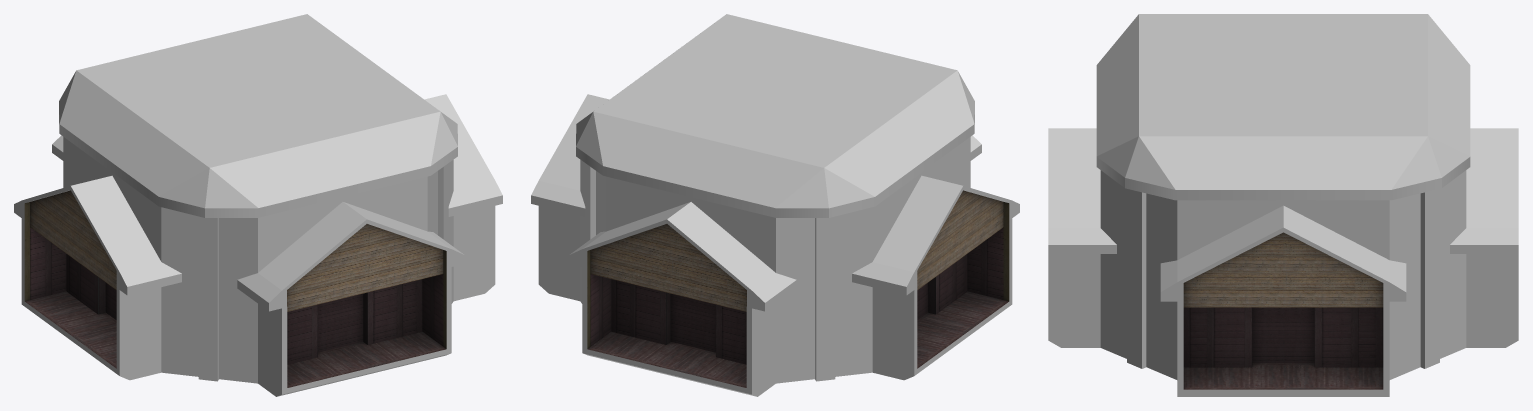
The model's file is Tower_woodBlock_v02.fbx.
3 renders of one model, left to right at view 1: azimuth 30°, elevation 25°; view 2: azimuth 150°, elevation 25°; view 3: azimuth 270°, elevation 25°, orthographic. The views are drawn at different scales.
Visible parts, largest first — view 1: WoodExterior01 (×3), WoodInterior01 (×2), WoodTop, DiagPlank01 (×2); view 2: WoodExterior01 (×3), WoodInterior01 (×2), WoodTop, DiagPlank01 (×2); view 3: WoodExterior01 (×3), WoodTop, WoodInterior01, DiagPlank01 (×2).
Part boxes in pixels (x1,y1,x2,y2): WoodExterior01 (×3): (14, 70, 502, 396); WoodInterior01 (×2): (24, 190, 446, 387); WoodTop: (77, 14, 439, 167); DiagPlank01 (×2): (198, 163, 448, 381); WoodExterior01 (×3): (531, 70, 1019, 396); WoodInterior01 (×2): (587, 190, 1009, 387); WoodTop: (594, 14, 956, 167); DiagPlank01 (×2): (585, 163, 835, 381); WoodExterior01 (×3): (1048, 14, 1518, 396); WoodTop: (1139, 14, 1427, 136); WoodInterior01: (1183, 232, 1383, 389); DiagPlank01 (×2): (1127, 189, 1439, 368).
Bounding box in the file's own units: 7.48 × 4 × 7.48.
